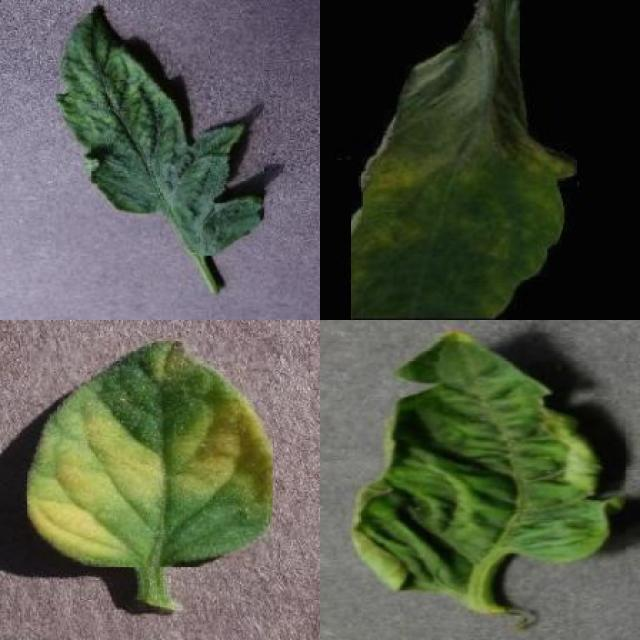Late Blight: (350, 0, 577, 320)
Leaf Mold: (27, 337, 273, 567)
Mosaic Virus: (56, 13, 264, 256)
Yellow Leaf Curl Virus: (352, 334, 625, 596)
